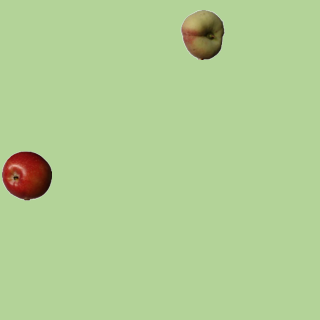Apple Braeburn: (1, 150, 51, 200)
Peach Flat: (177, 9, 227, 59)
